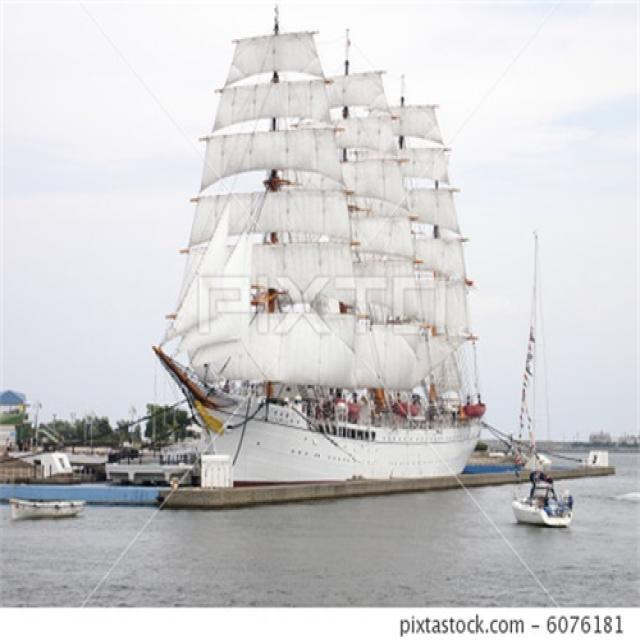Ship: (168, 20, 622, 506)
